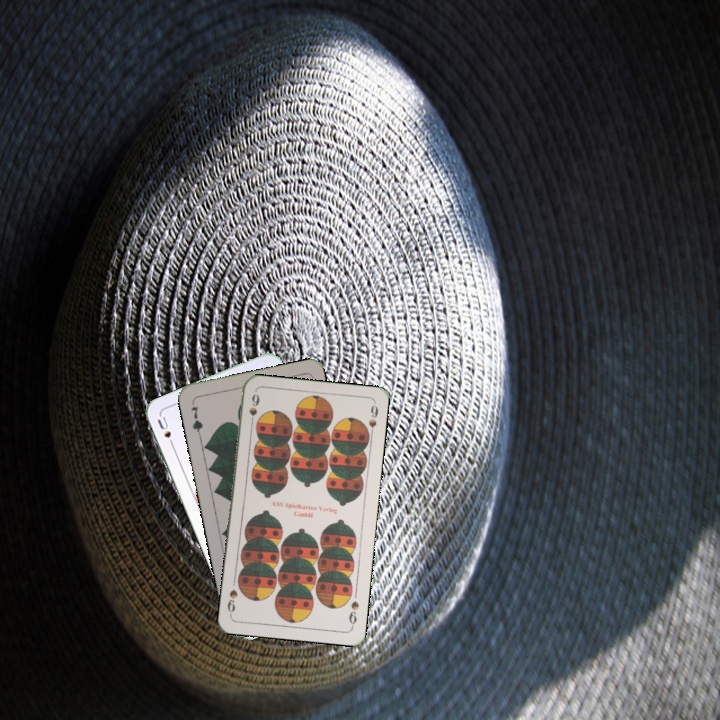G7: (187, 398, 205, 438)
S9: (245, 389, 262, 430), (345, 597, 362, 629)
SU: (153, 412, 177, 451)
